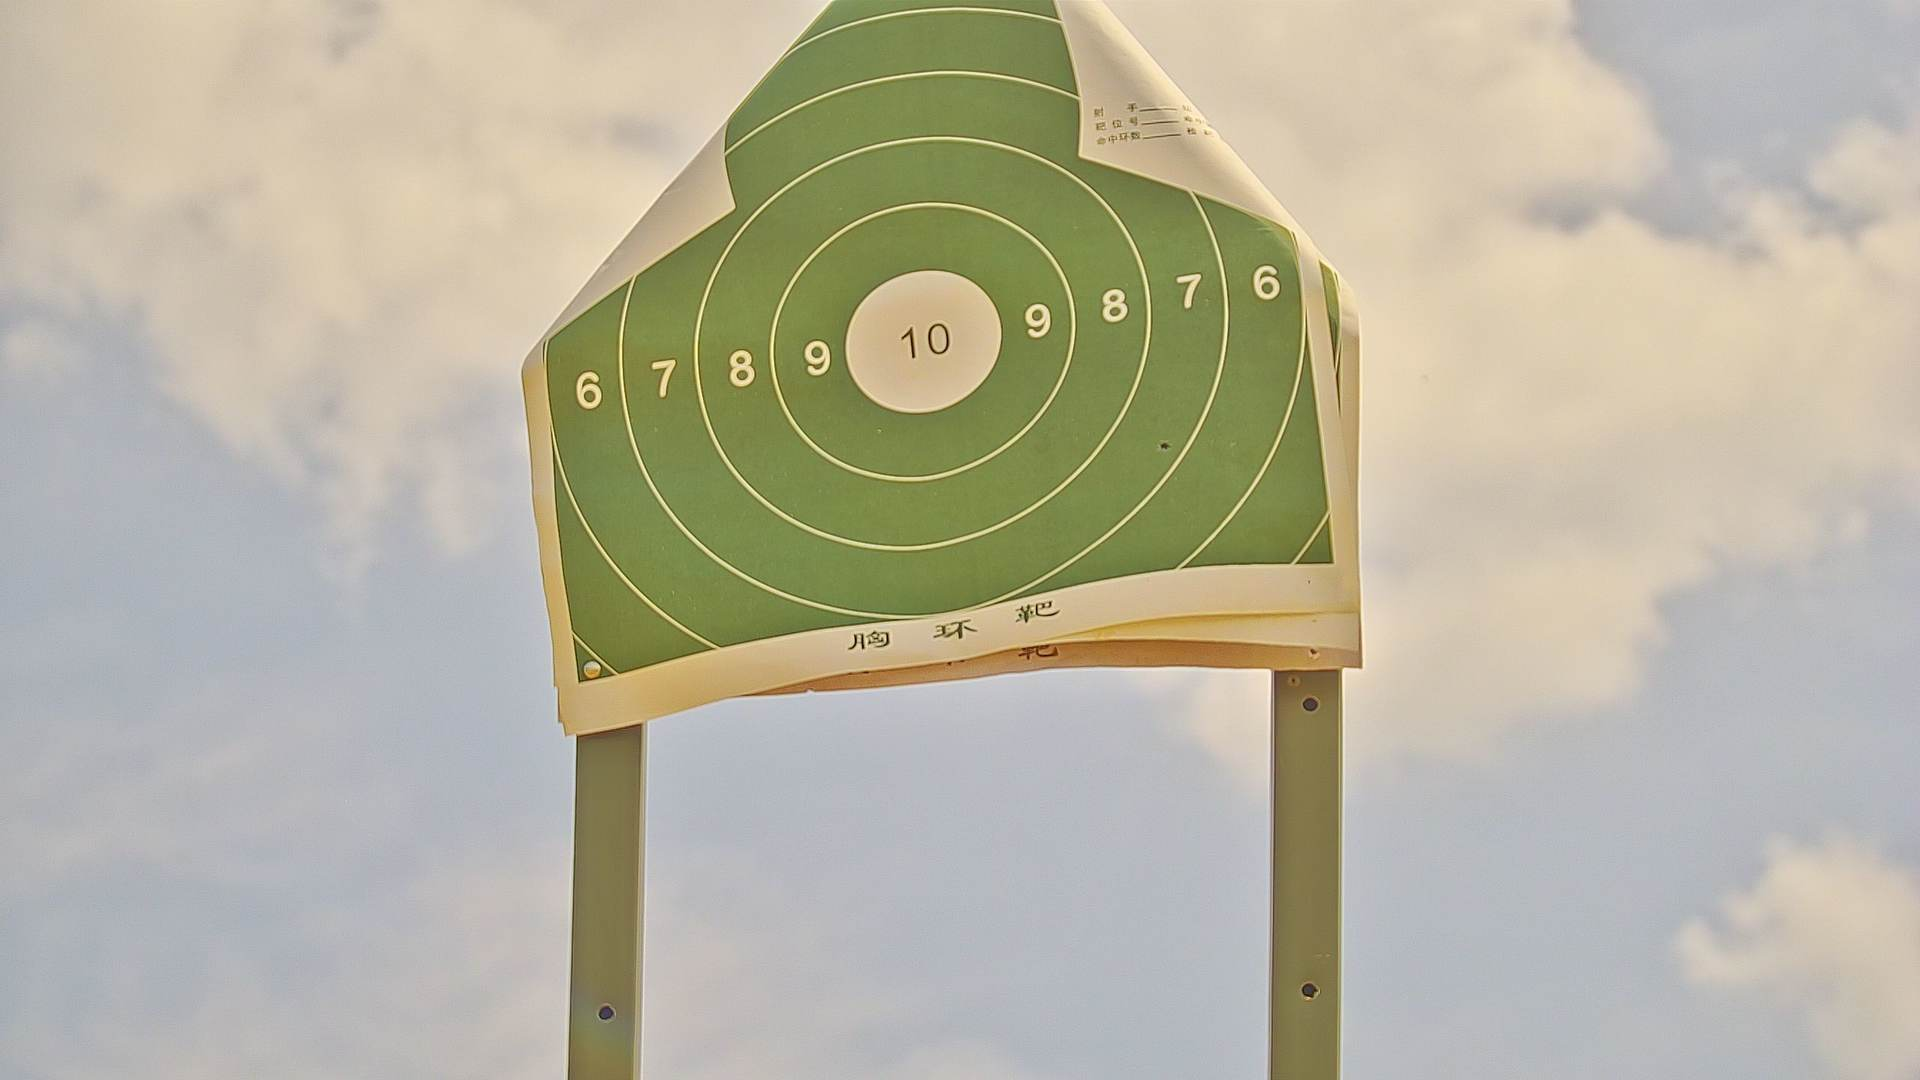hole: (1156, 438, 1170, 454)
kernel: (923, 340, 924, 345)
target: (541, 7, 1340, 682)
ten: (841, 264, 1006, 415)
